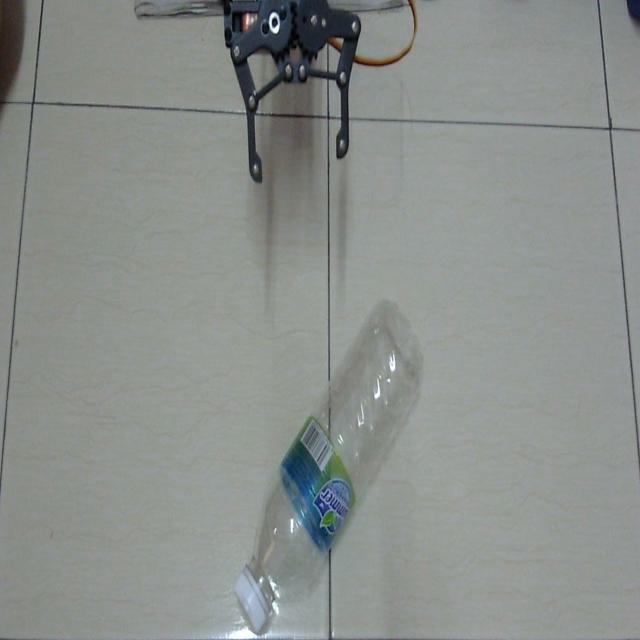Plastic-laydown_45right-rotation: (230, 291, 430, 627)
